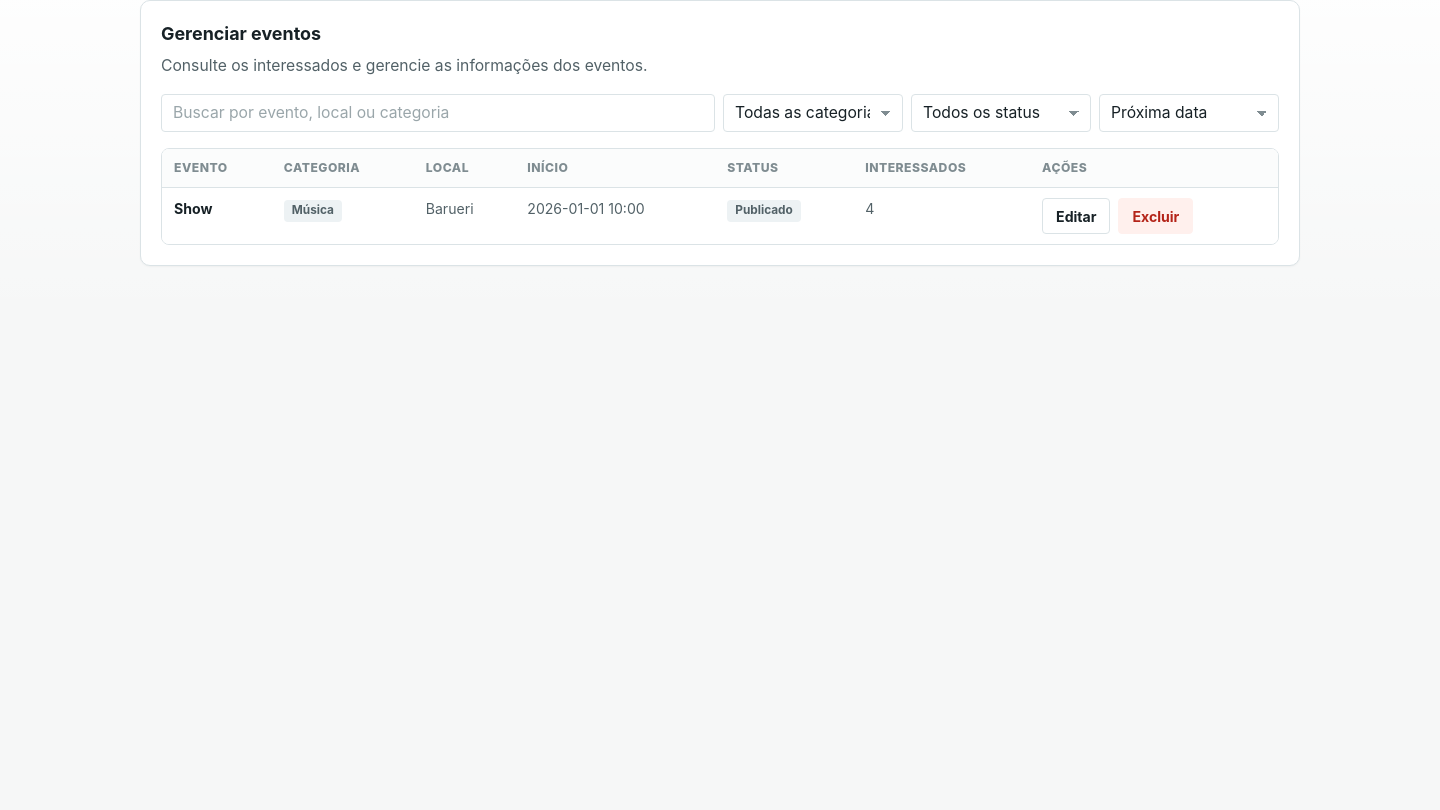
Test: keeps a linked event visible when deletion conflicts
Click the button "Excluir" at (1156, 216), box [1118,198,1193,234]
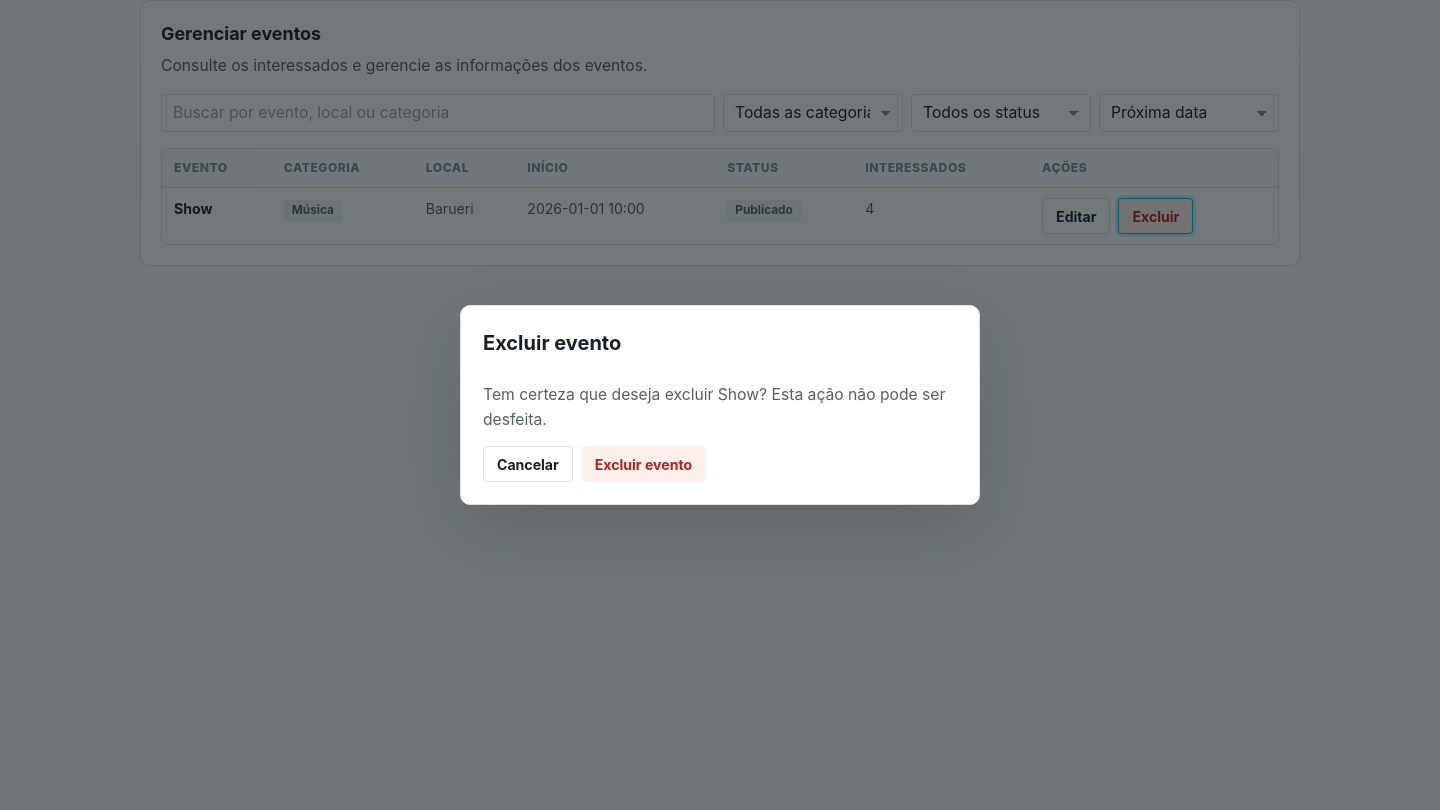
Click the button "Excluir evento" at (643, 464), box [581,446,706,482]
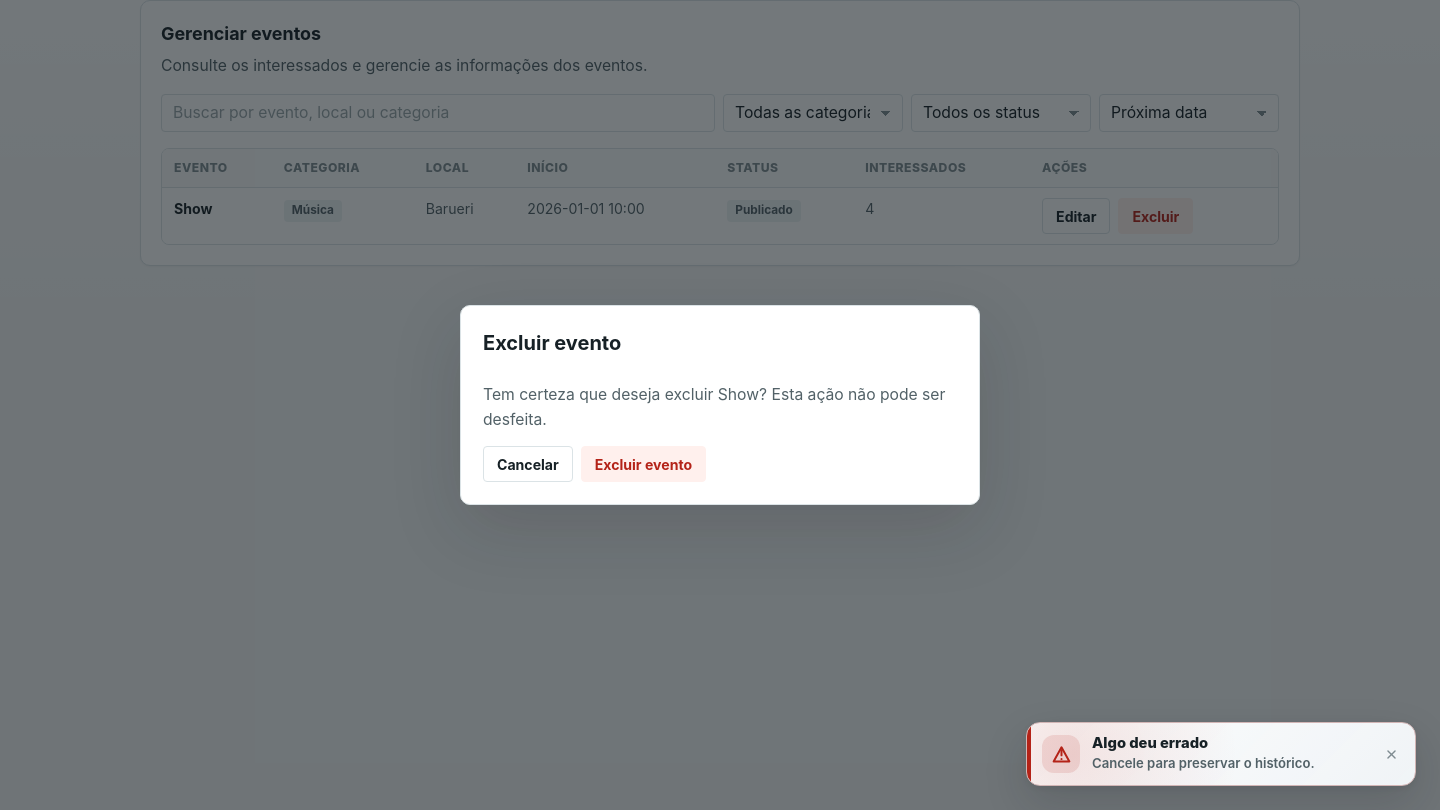
Expected: the button "Editar" is shown, [1042,198,1110,234]
Result: the text "Cancele para preservar o histórico." is shown at [1092,755,1315,771]
